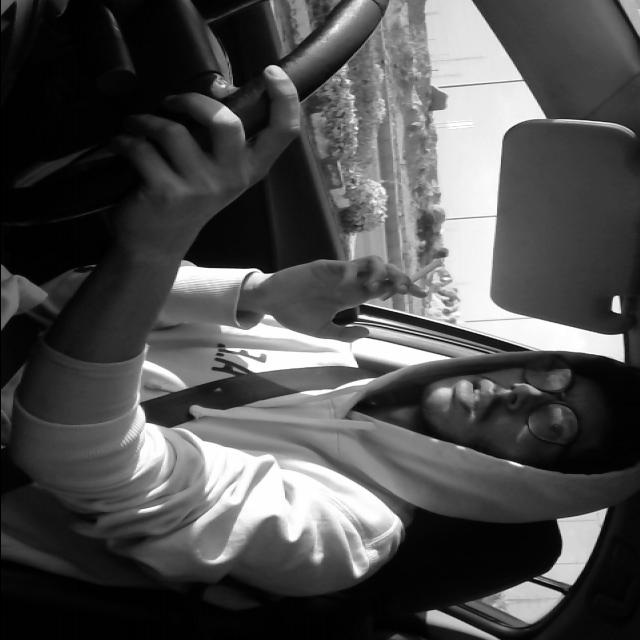smoking: (374, 250, 444, 302)
